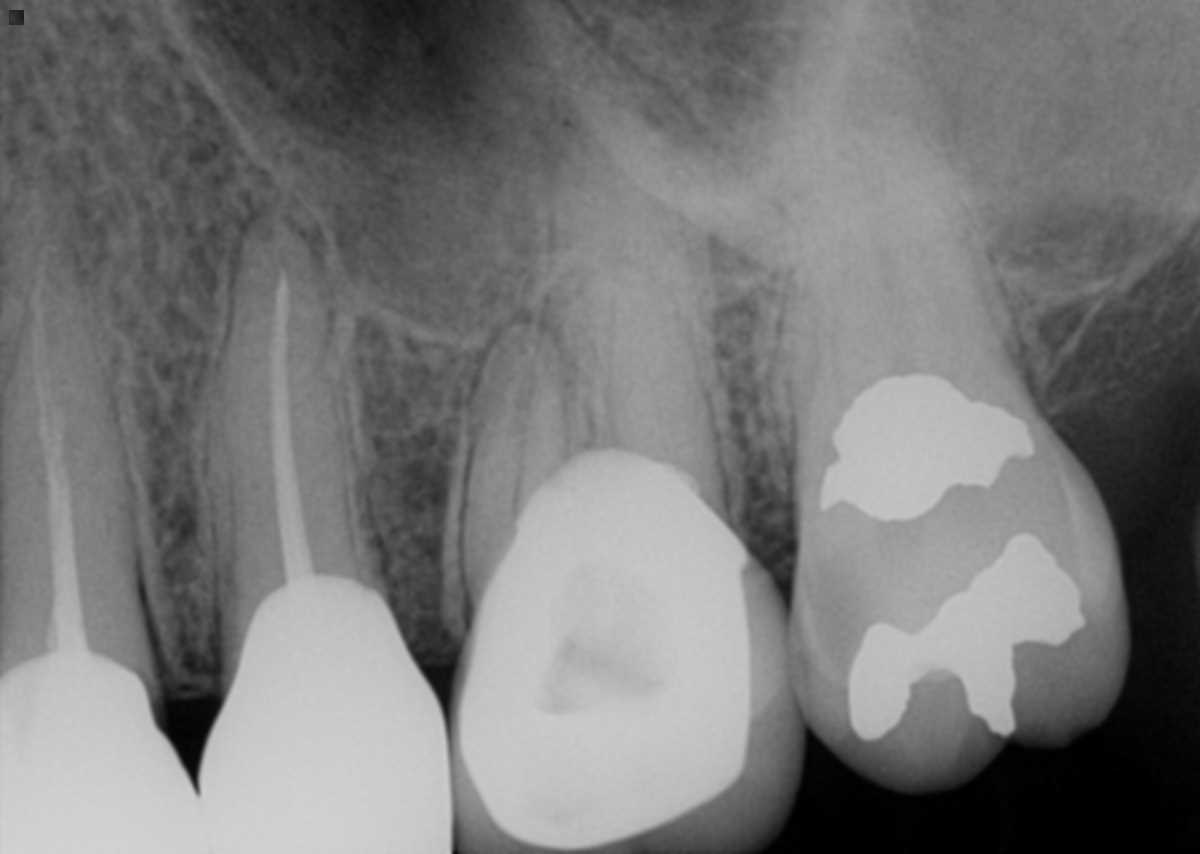Apical Lesion: (535, 16, 691, 150), (460, 306, 576, 398), (221, 185, 324, 285)
Distal Root: (602, 262, 726, 517)
Main Root: (207, 209, 367, 629), (0, 239, 151, 671)
Mesial Root: (457, 315, 573, 617)
Palatal Root: (789, 0, 1034, 484), (513, 69, 749, 542)
Root Canal Filling: (30, 258, 90, 661), (269, 268, 316, 588)
